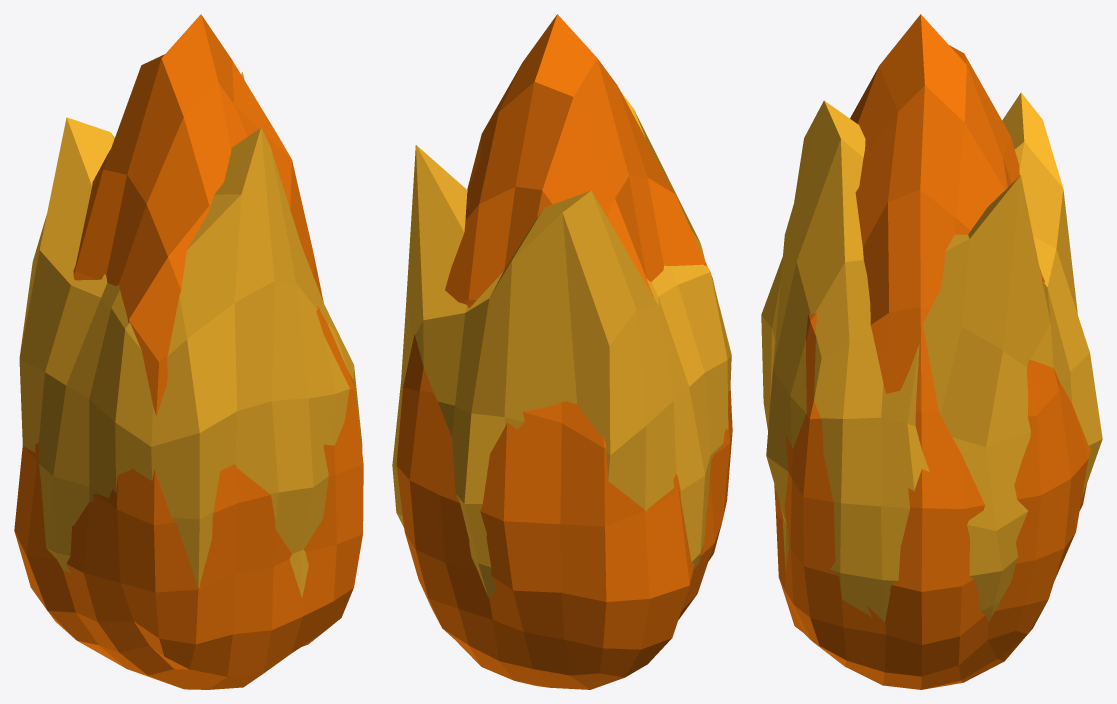
The model's file is FireBall (2).fbx.
3 views of the same model, side by side, from view 1: azimuth 30°, elevation 25°; view 2: azimuth 150°, elevation 25°; view 3: azimuth 270°, elevation 25° (orthographic).
Parts seen in each view (by area): view 1: Cube, Cube.001; view 2: Cube, Cube.001; view 3: Cube.001, Cube.
Boxes of the visible parts, left/top/right/bottom form: Cube: left=14, top=14, right=363, bottom=689; Cube.001: left=19, top=72, right=362, bottom=597; Cube: left=396, top=14, right=732, bottom=689; Cube.001: left=392, top=92, right=731, bottom=597; Cube.001: left=761, top=92, right=1102, bottom=622; Cube: left=774, top=14, right=1090, bottom=689.
Size of the model in its own units: 228 by 485 by 226.
